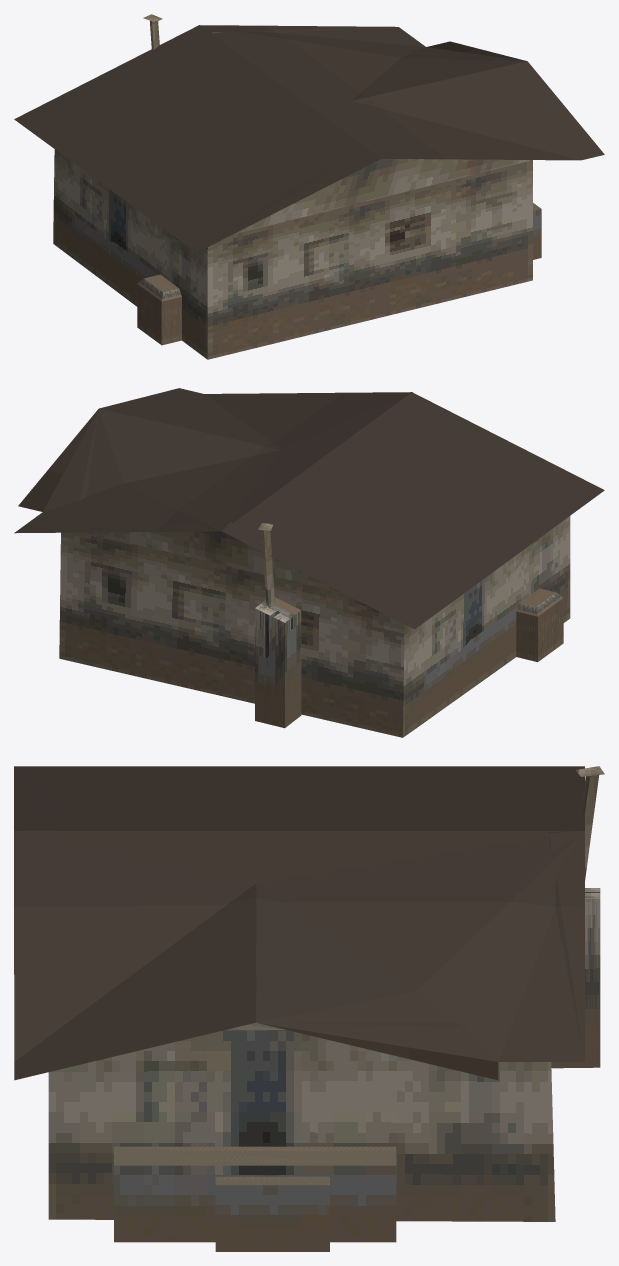
Rendered from lodganghous01_lax.obj.
3 views of the same model, one above another, from view 1: azimuth 30°, elevation 25°; view 2: azimuth 150°, elevation 25°; view 3: azimuth 270°, elevation 25° (orthographic). The views are drawn at different scales.
Parts seen in each view (by area): view 1: LODganghous01_LAx; view 2: LODganghous01_LAx; view 3: LODganghous01_LAx.
Part boxes in pixels (x1,y1,x2,y2): LODganghous01_LAx: (14, 14, 604, 359); LODganghous01_LAx: (14, 388, 604, 737); LODganghous01_LAx: (14, 766, 604, 1251).
Size of the model in its own units: 17.13 by 7.44 by 13.73.
1 material, 1 textured.
